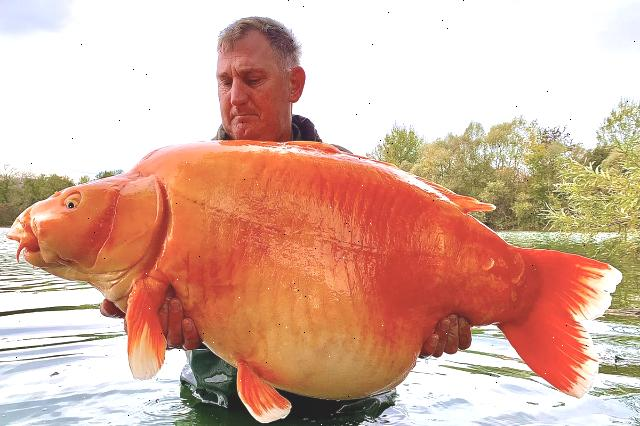Mulut: (2, 196, 52, 280)
Sirip Dada: (120, 271, 180, 389)
Sirip Ekor: (496, 228, 628, 408)
Sirip Perut: (230, 352, 300, 424)
Sirip Punggung: (288, 132, 507, 224)
